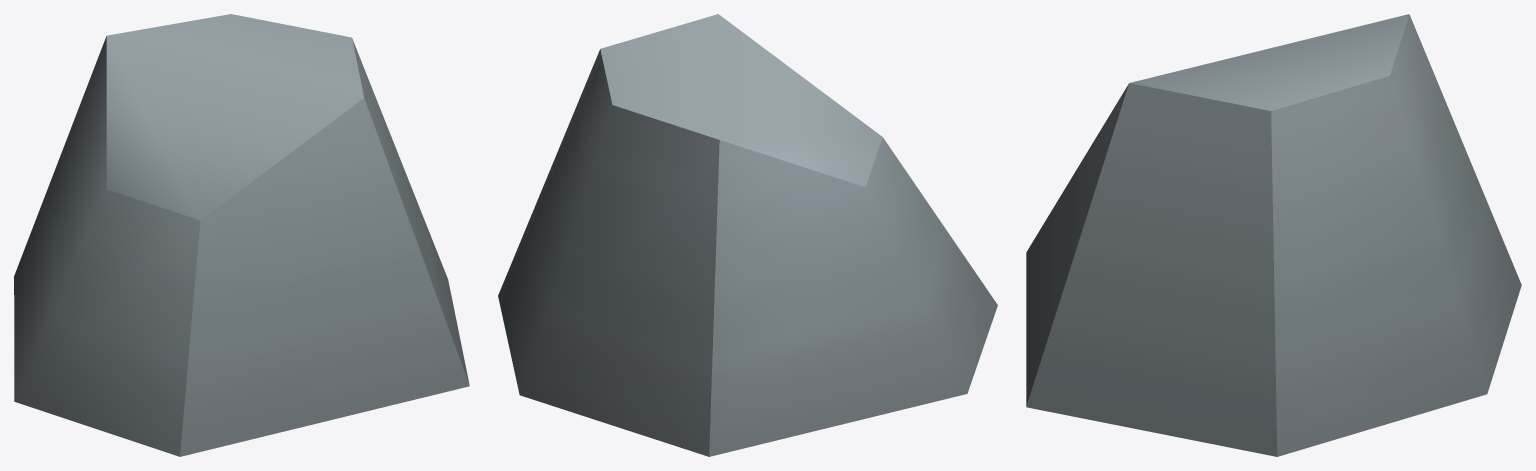
Rendered from kay-pedra-d.gltf.
3 renders of one model, left to right at view 1: azimuth 30°, elevation 25°; view 2: azimuth 150°, elevation 25°; view 3: azimuth 270°, elevation 25°, orthographic. The views are drawn at different scales.
Parts seen in each view (by area): view 1: rock_single_D; view 2: rock_single_D; view 3: rock_single_D.
Boxes of the visible parts, bbox=[...] form: rock_single_D: bbox=[14, 14, 469, 456]; rock_single_D: bbox=[498, 14, 997, 456]; rock_single_D: bbox=[1026, 14, 1521, 456].
Size of the model in its own units: 1.43 by 0.8146 by 1.25.
Materials: 1 (1 with a texture image).
